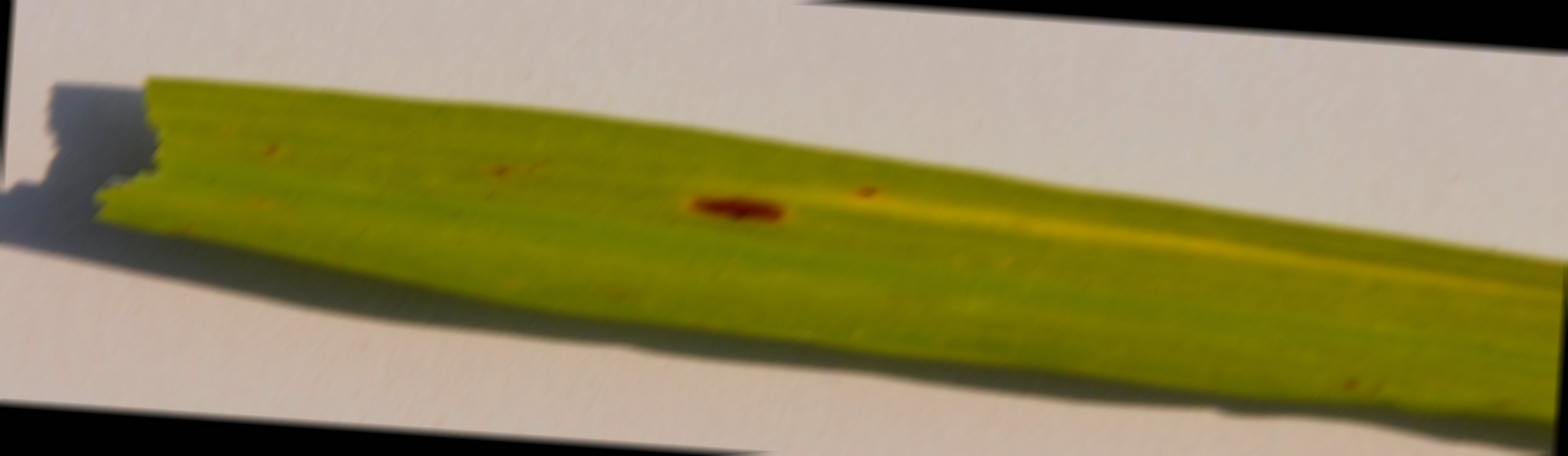Bacterial_Leaf_Blight: (662, 186, 820, 222)
